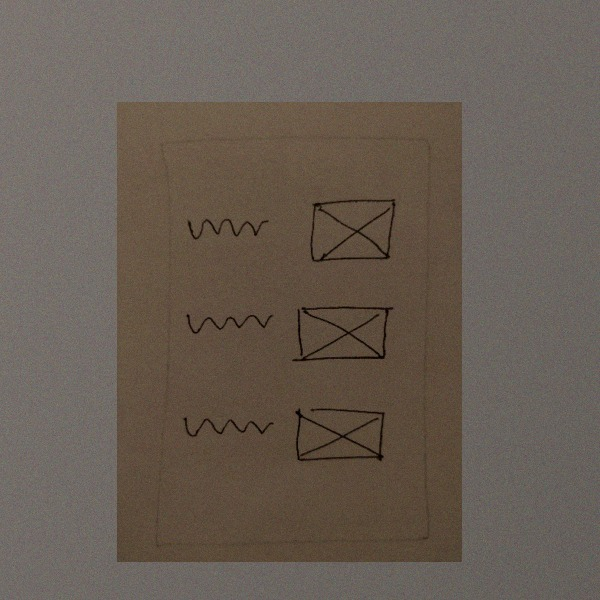image: (288, 399, 393, 478), (303, 190, 404, 271), (287, 300, 399, 368)
text: (176, 405, 276, 452), (179, 207, 273, 245), (183, 304, 278, 340)
